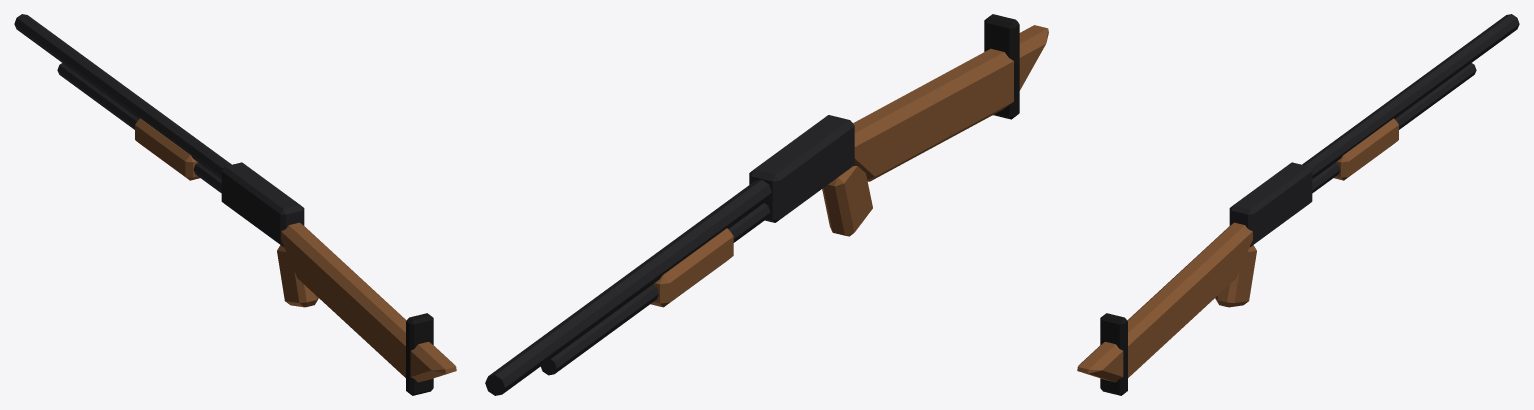
Rendered from fusil_pompe.glb.
The picture shows the model from 3 angles, left to right: view 1: azimuth 30°, elevation 25°; view 2: azimuth 150°, elevation 25°; view 3: azimuth 330°, elevation 25°; orthographic projection. The views are drawn at different scales.
Parts seen in each view (by area): view 1: fusil_pompe; view 2: fusil_pompe; view 3: fusil_pompe.
Part boxes in pixels (x1,y1,x2,y2): fusil_pompe: (14, 14, 456, 395); fusil_pompe: (485, 14, 1048, 395); fusil_pompe: (1077, 14, 1519, 395).
Size of the model in its own units: 0.04 by 0.1496 by 1.23.
